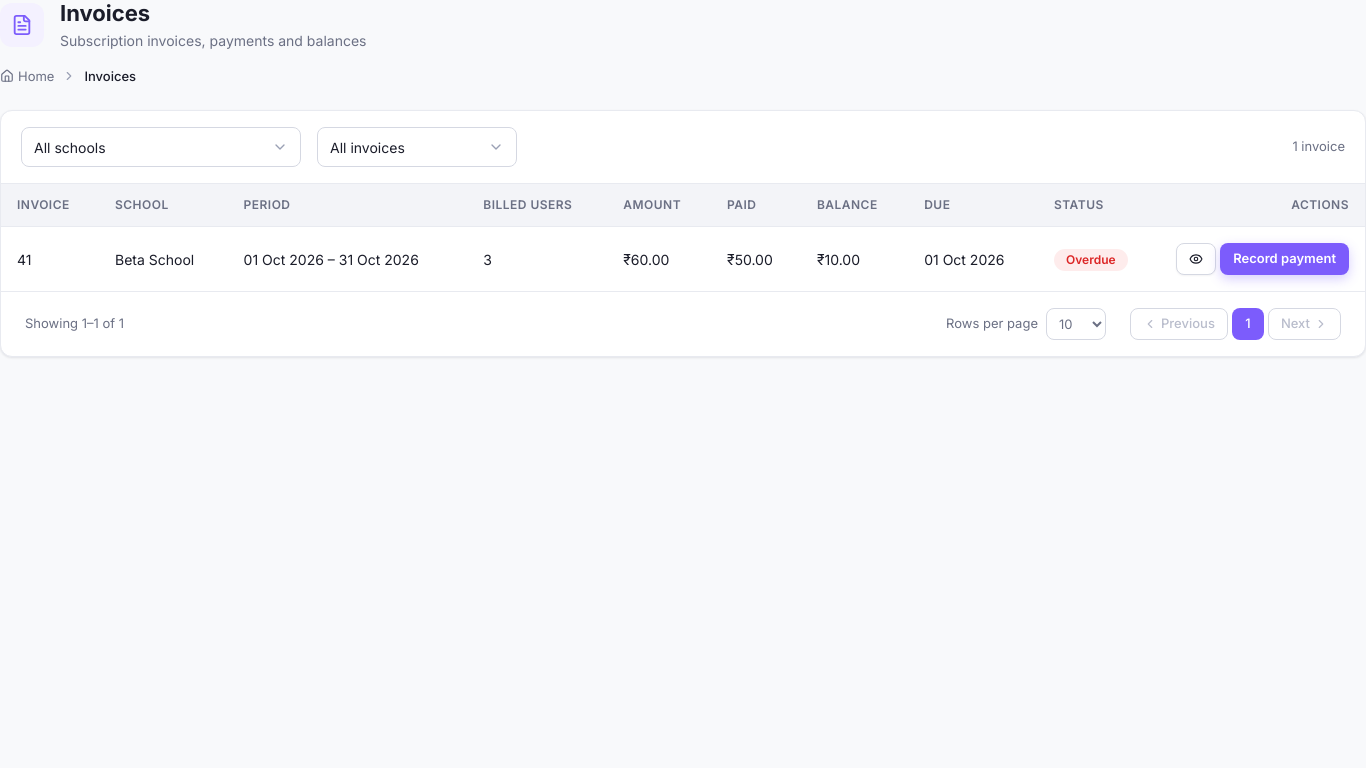
InvoicesPageComponent › opens the invoice dialog and loads that invoice with its payments
This screenshot has width=1366, height=768.
Click the 1st button: x=1196, y=259 left=1176, top=243, right=1216, bottom=275
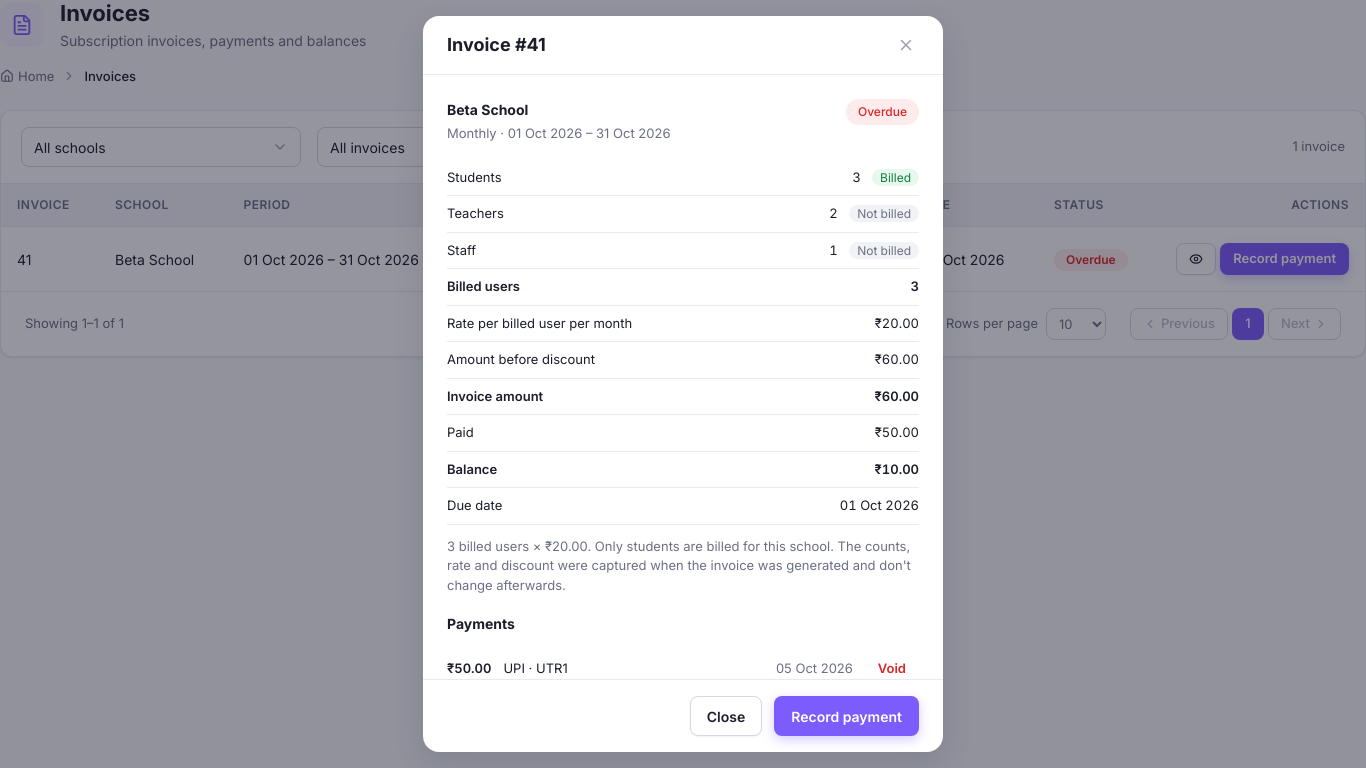
expect the text "Invoice #41" is shown: met, box left=447, top=34, right=546, bottom=56
expect the text "Not billed" is shown: met, box left=849, top=205, right=919, bottom=222
expect the text "Only students are billed for this school." is shown: met, box left=595, top=538, right=838, bottom=554
